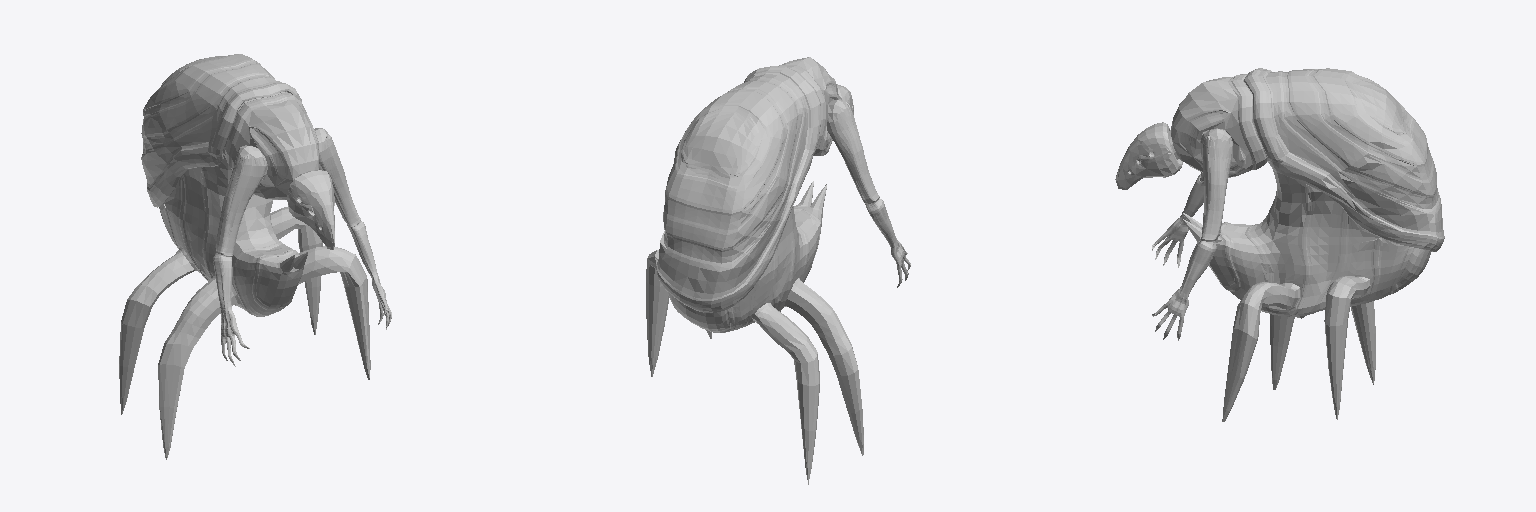
File: Correr.0014.obj
The picture shows the model from 3 angles: view 1: azimuth 30°, elevation 25°; view 2: azimuth 150°, elevation 25°; view 3: azimuth 270°, elevation 25°; orthographic projection.
Visible parts, largest first — view 1: pCube16; view 2: pCube16; view 3: pCube16.
Part boxes in pixels (x1,y1,x2,y2): pCube16: (119, 54, 391, 459); pCube16: (646, 57, 910, 484); pCube16: (1115, 68, 1444, 421).
Bounding box in the file's own units: 2.19 × 3.93 × 3.28.